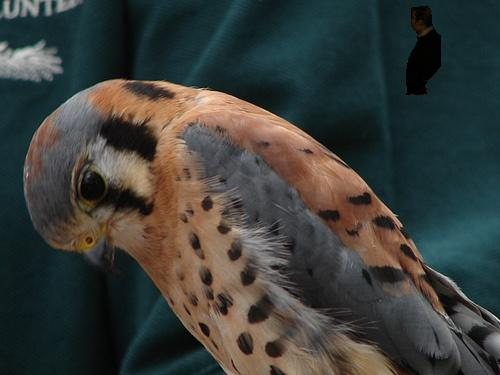tampered: (407, 6, 441, 95)
